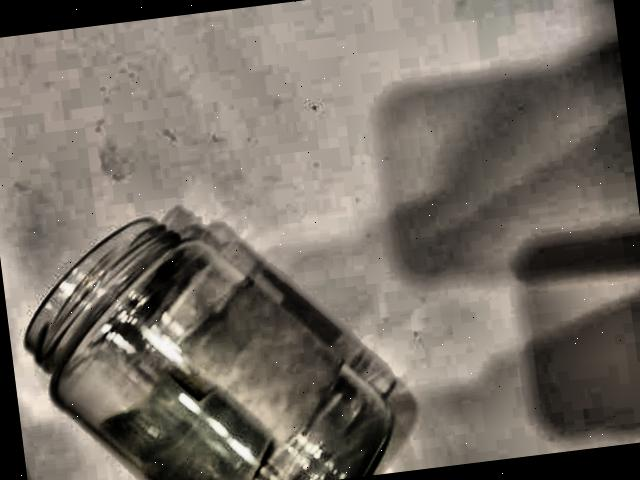Almennt: (8, 165, 402, 480)
